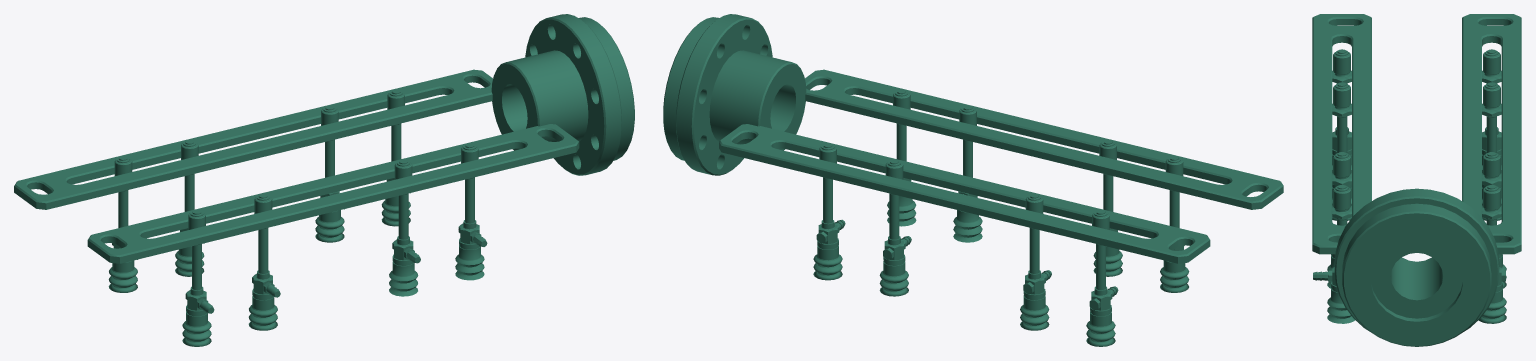
3 renders of one model, left to right at view 1: azimuth 30°, elevation 25°; view 2: azimuth 150°, elevation 25°; view 3: azimuth 270°, elevation 25°, orthographic.
Visible parts, largest first — view 1: 夾爪; view 2: 夾爪; view 3: 夾爪.
Boxes of the visible parts, x1,y1,x2,y2 form: 夾爪: [14, 14, 634, 346]; 夾爪: [663, 14, 1283, 346]; 夾爪: [1312, 14, 1521, 346].
Bounding box in the file's own units: 42.1 × 14.35 × 14.
